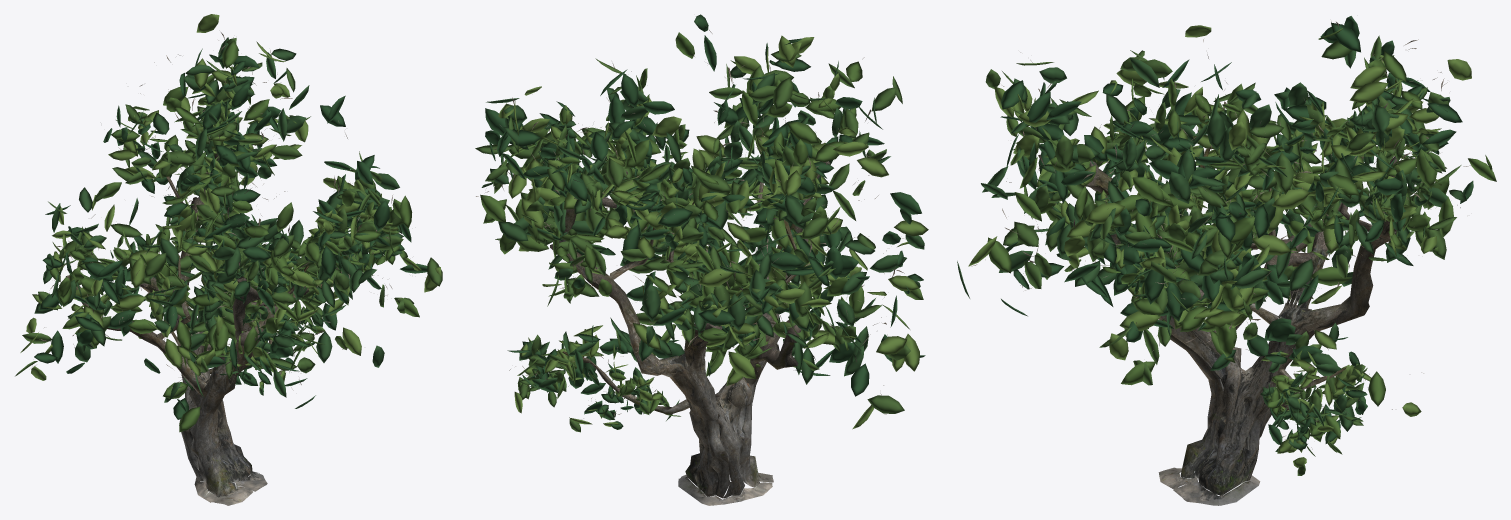
File: island_tree_rounded_leaves_v4.glb
3 views of the same model, side by side, from view 1: azimuth 30°, elevation 25°; view 2: azimuth 150°, elevation 25°; view 3: azimuth 270°, elevation 25° (orthographic). The views are drawn at different scales.
Parts seen in each view (by area): view 1: Complete_leaf_canopy_2200, island_tree_01_LOD0.001, island_tree_01_LOD0; view 2: Complete_leaf_canopy_2200, island_tree_01_LOD0.001, island_tree_01_LOD0; view 3: Complete_leaf_canopy_2200, island_tree_01_LOD0.001, island_tree_01_LOD0.
Part boxes in pixels (left/top/right/bottom): Complete_leaf_canopy_2200: left=15, top=14, right=442, bottom=432; island_tree_01_LOD0.001: left=66, top=153, right=341, bottom=505; island_tree_01_LOD0: left=33, top=32, right=427, bottom=408; Complete_leaf_canopy_2200: left=475, top=14, right=928, bottom=432; island_tree_01_LOD0.001: left=550, top=132, right=830, bottom=505; island_tree_01_LOD0: left=476, top=26, right=905, bottom=424; Complete_leaf_canopy_2200: left=957, top=16, right=1496, bottom=475; island_tree_01_LOD0.001: left=1084, top=144, right=1397, bottom=505; island_tree_01_LOD0: left=971, top=21, right=1472, bottom=449.
Size of the model in its own units: 4.72 by 4.86 by 4.79.
Materials: 3 (2 with a texture image).
